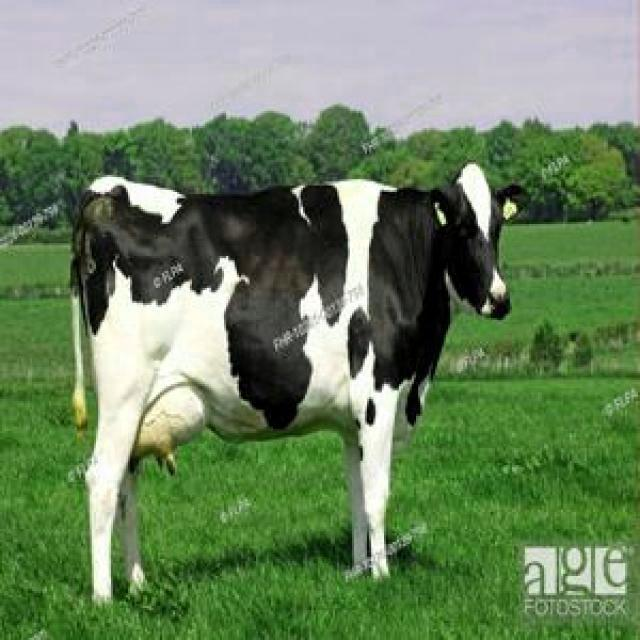cow: (71, 164, 520, 602)
